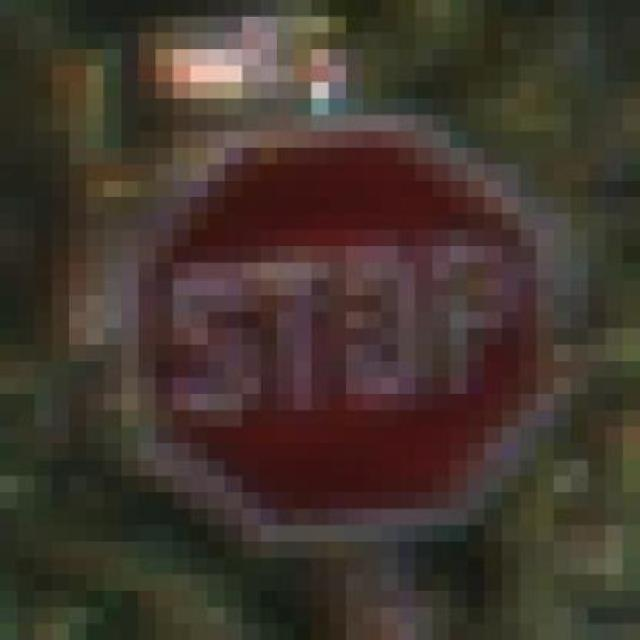Stop_Sign: (69, 99, 588, 542)
